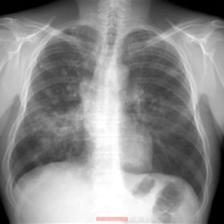tuberculosis: (4, 18, 214, 216)
